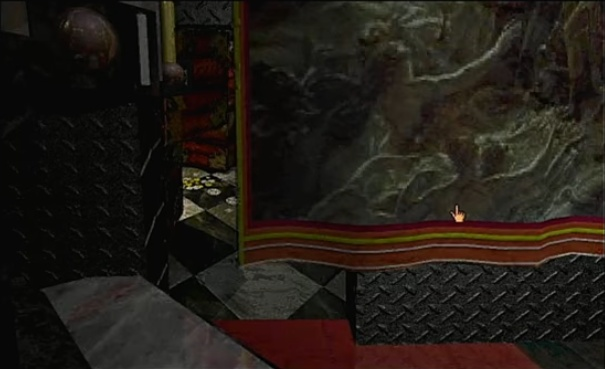Pointer: (447, 201, 471, 225)
